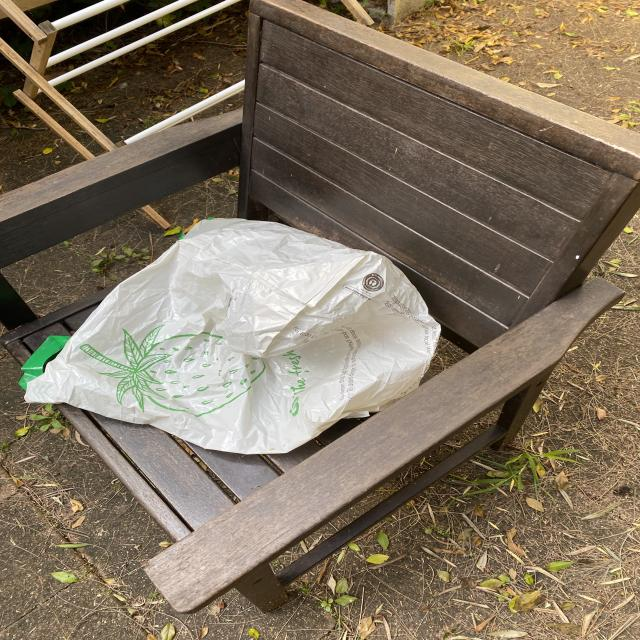bag: (17, 217, 442, 455)
